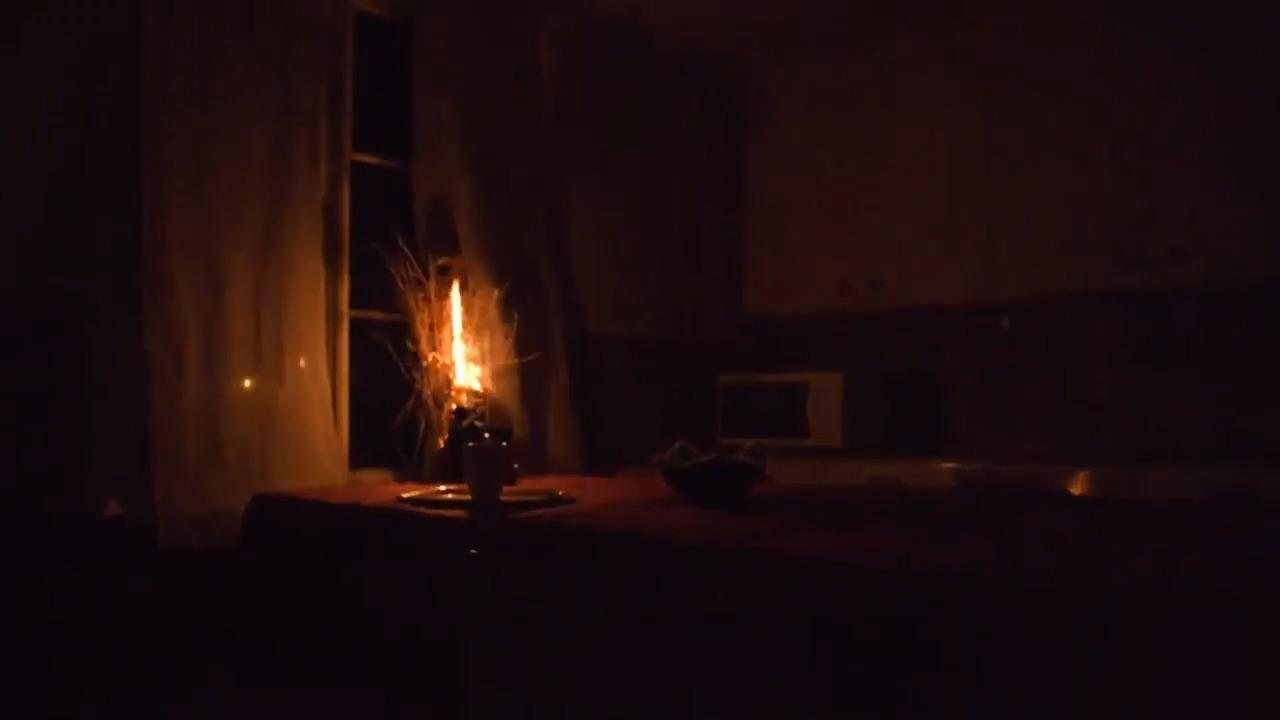fire: (431, 267, 503, 404)
